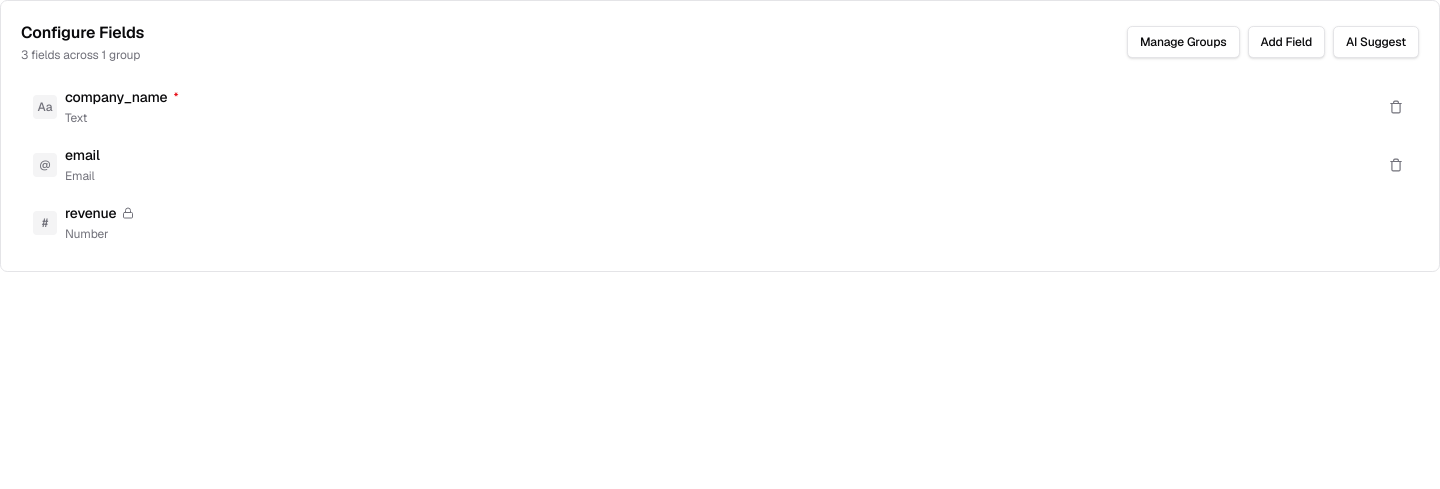
Test: InlineFieldManager › add field validation › shows error when field name already exists
Click the button with aria-label "Add a new field": {"x": 1286, "y": 42} [1248,26,1325,58]
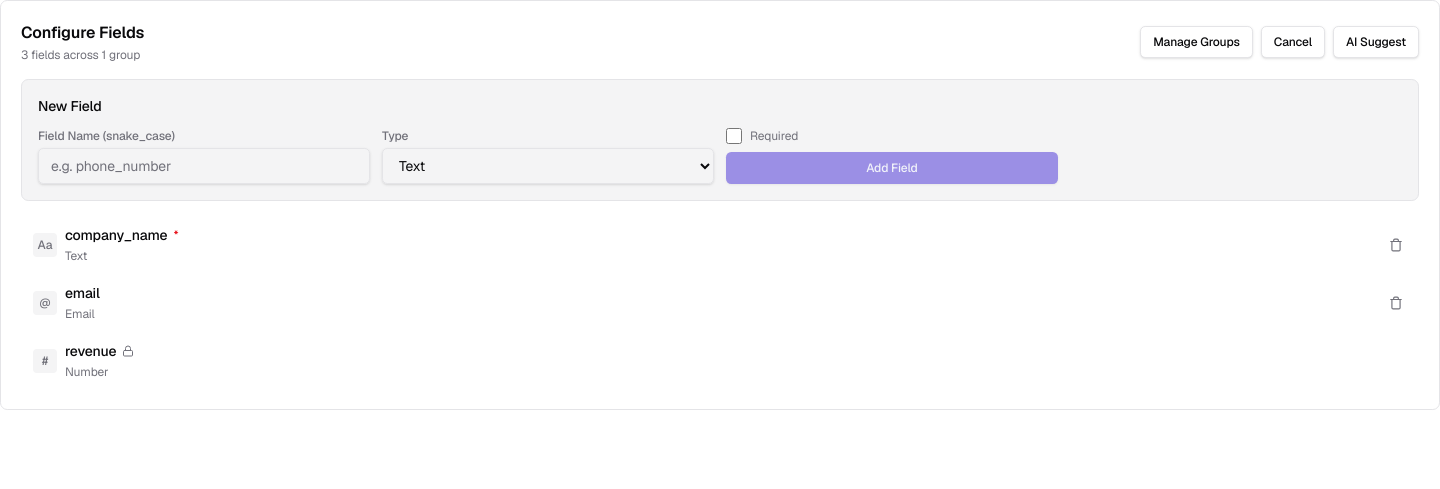
In the field labelled "Field Name (snake_case)": {"x": 204, "y": 166} [38,148,370,184], type "company_name"
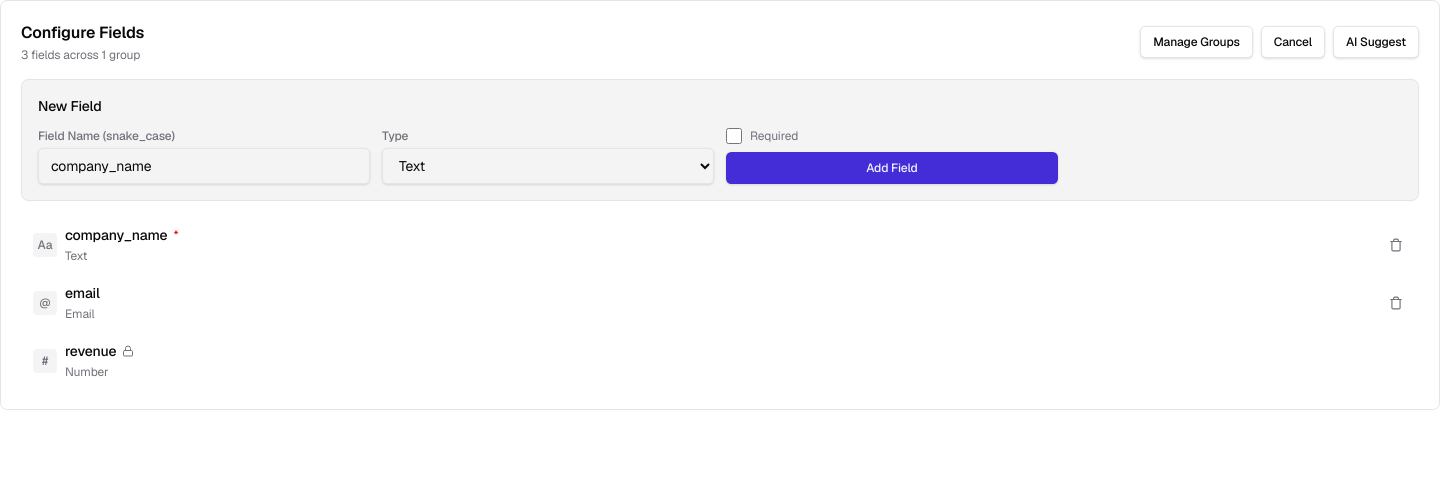
Click the button "Add Field": {"x": 892, "y": 168} [726,152,1058,184]
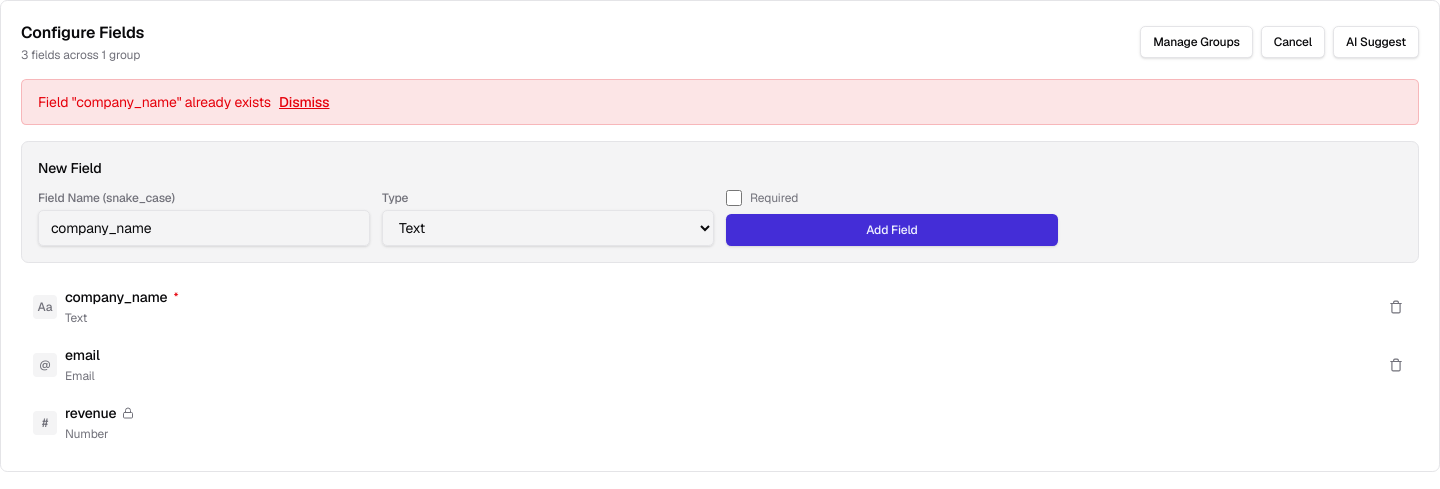
Check: the message shows "already exists", box [38,93,271,111]
